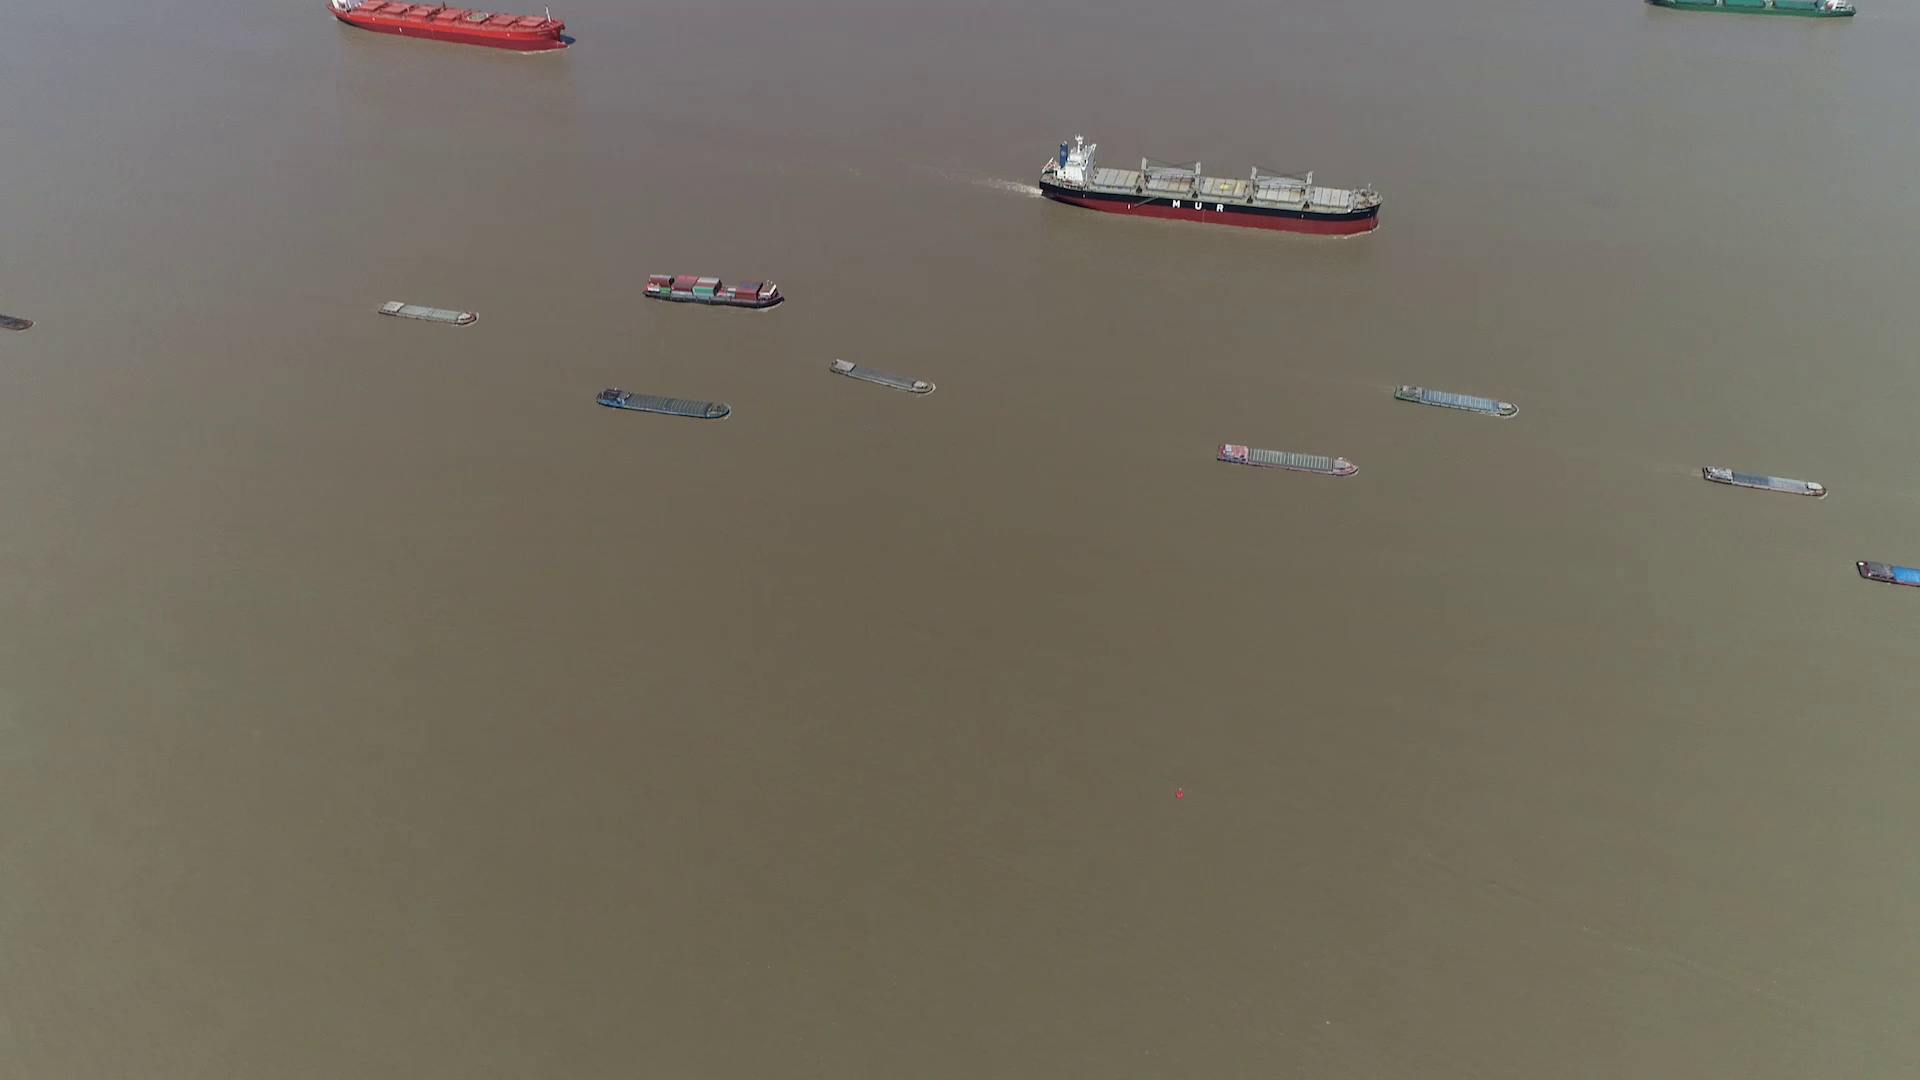ship: (1040, 140, 1382, 232), (330, 0, 571, 49), (644, 272, 785, 309), (1216, 440, 1356, 476), (597, 386, 731, 419), (1394, 382, 1516, 415), (1644, 0, 1859, 18), (829, 359, 935, 394), (1702, 464, 1825, 495), (378, 299, 480, 324), (1854, 559, 1920, 589), (0, 303, 33, 334)
